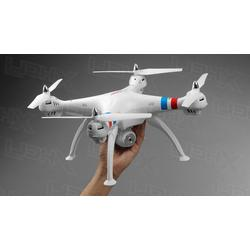drone: (25, 64, 211, 186)
